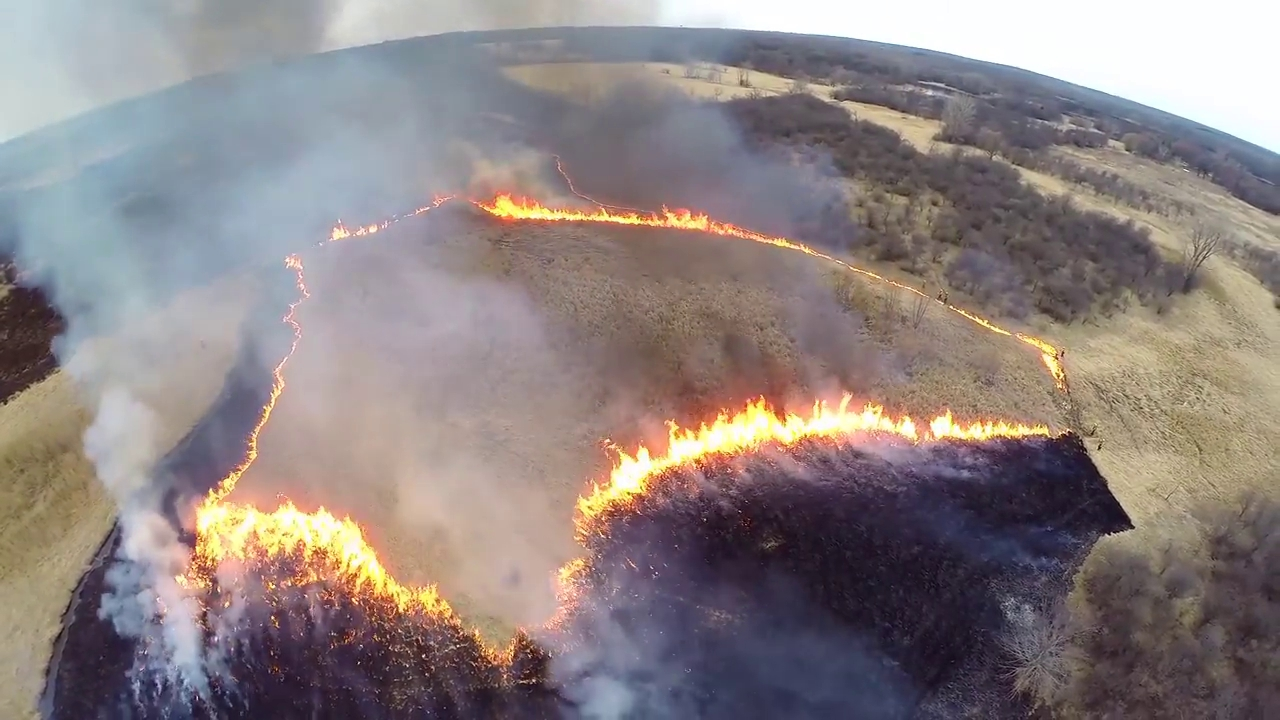forest_fire: (328, 194, 1067, 392), (176, 254, 459, 624), (574, 393, 1048, 539), (473, 633, 515, 661), (558, 557, 585, 600)
